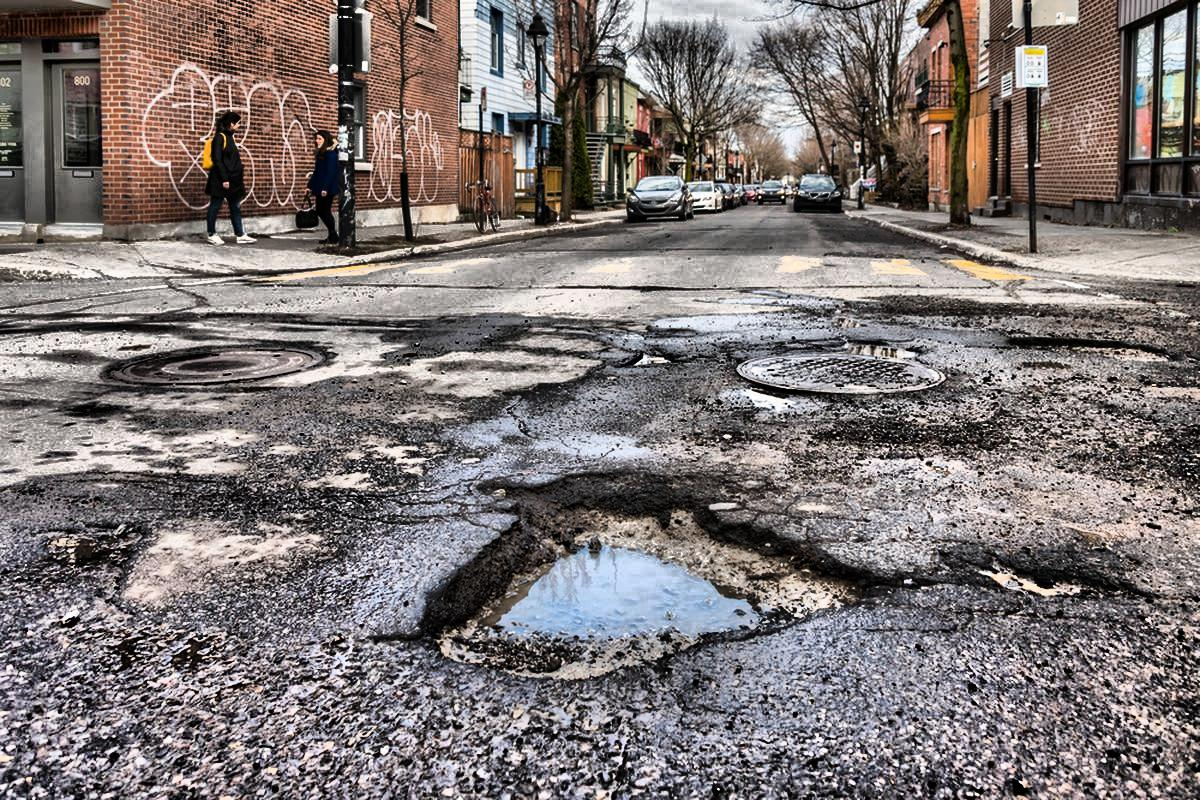pothole: (423, 470, 839, 693), (47, 512, 147, 588), (1003, 331, 1166, 373), (977, 556, 1097, 606), (831, 334, 928, 362), (609, 343, 679, 373)
